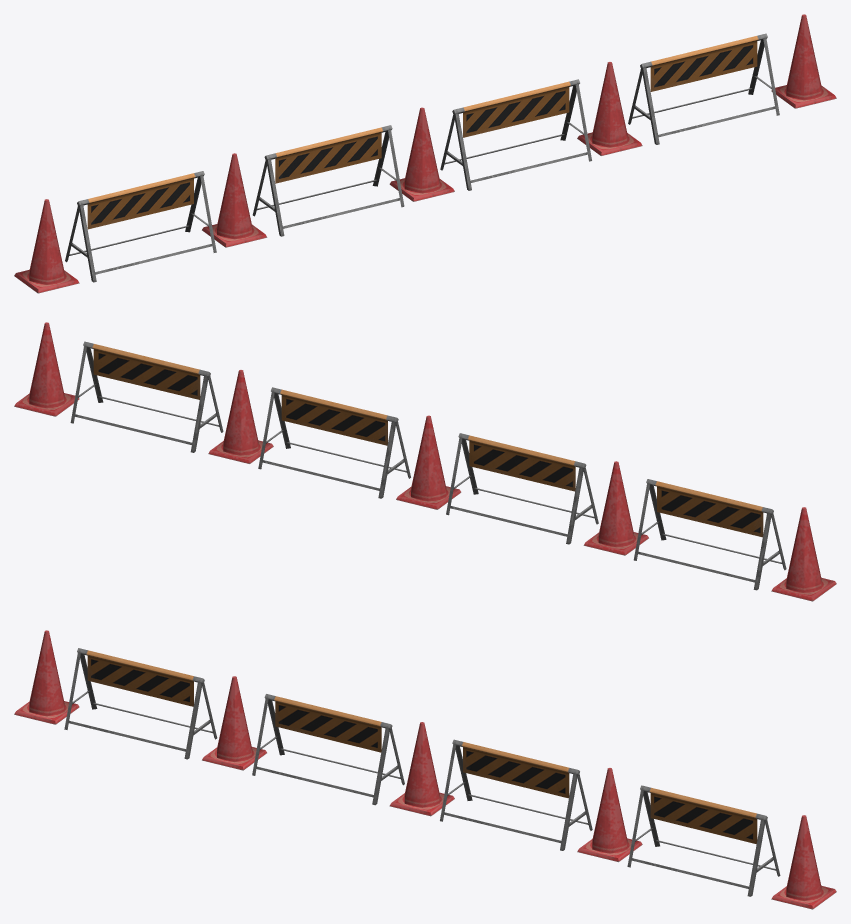
File: jctlowCones.fbx
3 views of the same model, one above another, from view 1: azimuth 30°, elevation 25°; view 2: azimuth 150°, elevation 25°; view 3: azimuth 330°, elevation 25° (orthographic).
Parts seen in each view (by area): view 1: jctlowCones; view 2: jctlowCones; view 3: jctlowCones.
Part boxes in pixels (x1=…): jctlowCones: x1=14, y1=14, x2=836, y2=293; jctlowCones: x1=14, y1=322, x2=836, y2=601; jctlowCones: x1=14, y1=630, x2=836, y2=909.
Size of the model in its own units: 766 by 72.9 by 48.54.
1 material, 1 textured.
